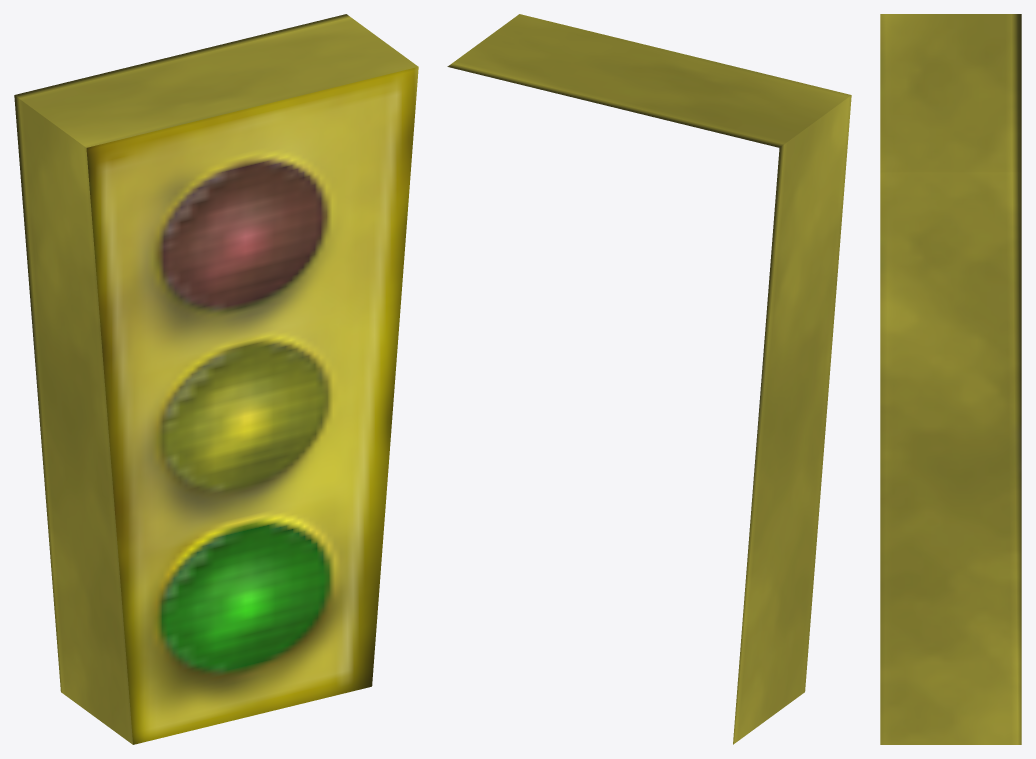
The picture shows the model from 3 angles, left to right: view 1: azimuth 30°, elevation 25°; view 2: azimuth 150°, elevation 25°; view 3: azimuth 270°, elevation 25°; orthographic projection. The views are drawn at different scales.
Visible parts, largest first — view 1: Box02; view 2: Box02; view 3: Box02.
Boxes of the visible parts, bbox=[...] form: Box02: bbox=[14, 14, 418, 744]; Box02: bbox=[447, 14, 851, 744]; Box02: bbox=[880, 14, 1021, 744].
Size of the model in its own units: 75.2 by 132 by 28.31.
Materials: 1 (1 with a texture image).
